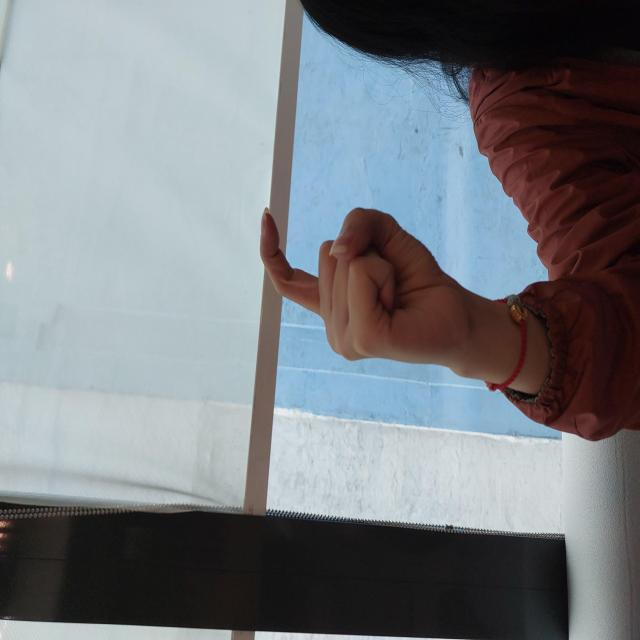X: (271, 258, 437, 477)
